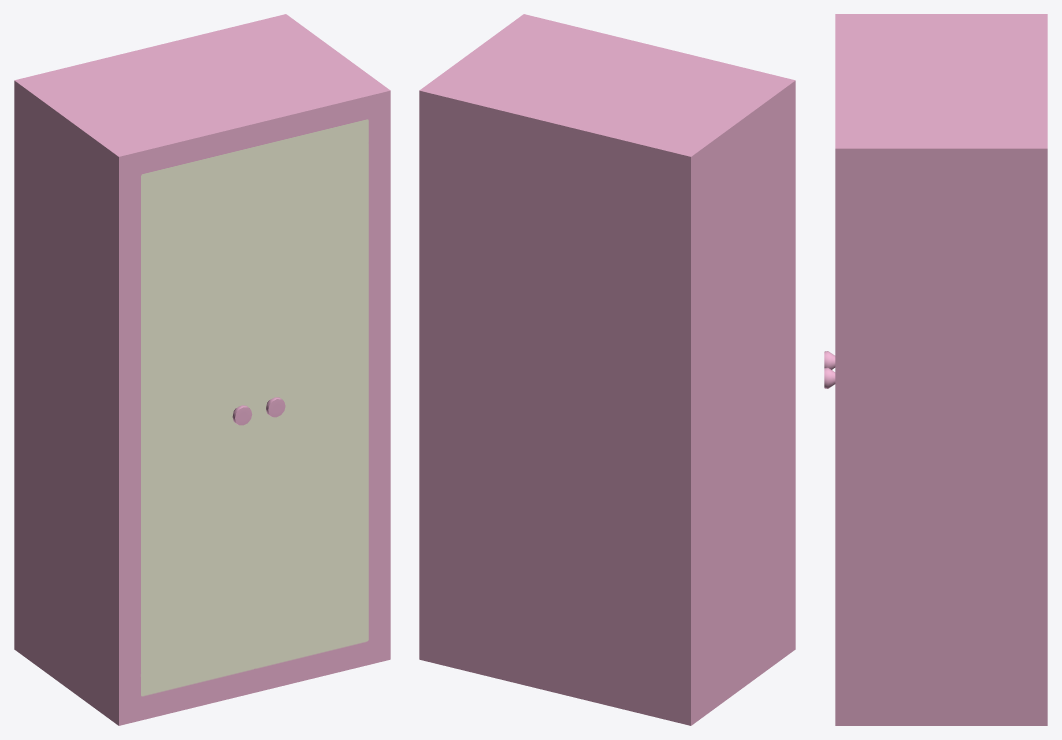
The model's file is closet1_pink.glb.
3 renders of one model, left to right at view 1: azimuth 30°, elevation 25°; view 2: azimuth 150°, elevation 25°; view 3: azimuth 270°, elevation 25°, orthographic.
Parts seen in each view (by area): view 1: Box002; view 2: Box002; view 3: Box002.
Part boxes in pixels (left/top/right/bottom): Box002: left=14, top=14, right=390, bottom=725; Box002: left=419, top=14, right=795, bottom=725; Box002: left=824, top=14, right=1047, bottom=725.
Bounding box in the file's own units: 0.12 × 0.24 × 0.0842.
Materials: 1 (1 with a texture image).
